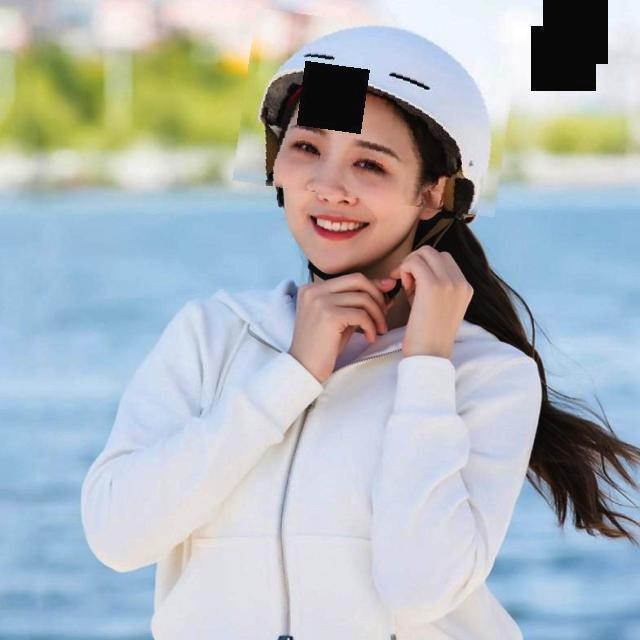helmet: (238, 16, 513, 209)
